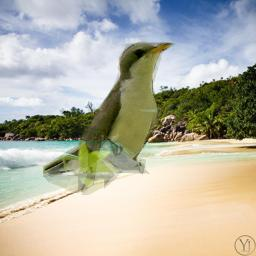Cuckoo: (43, 38, 176, 195)
